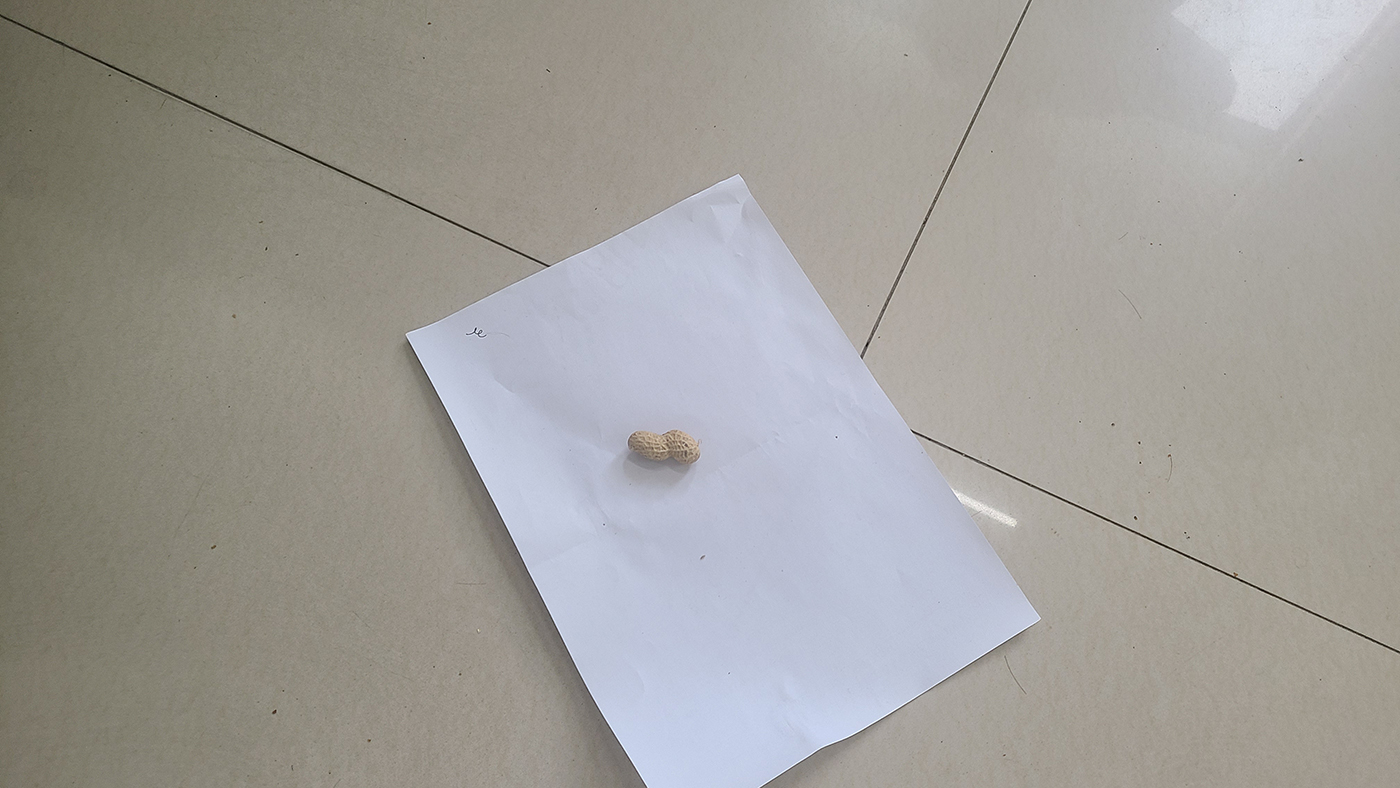h: (627, 428, 701, 465)
